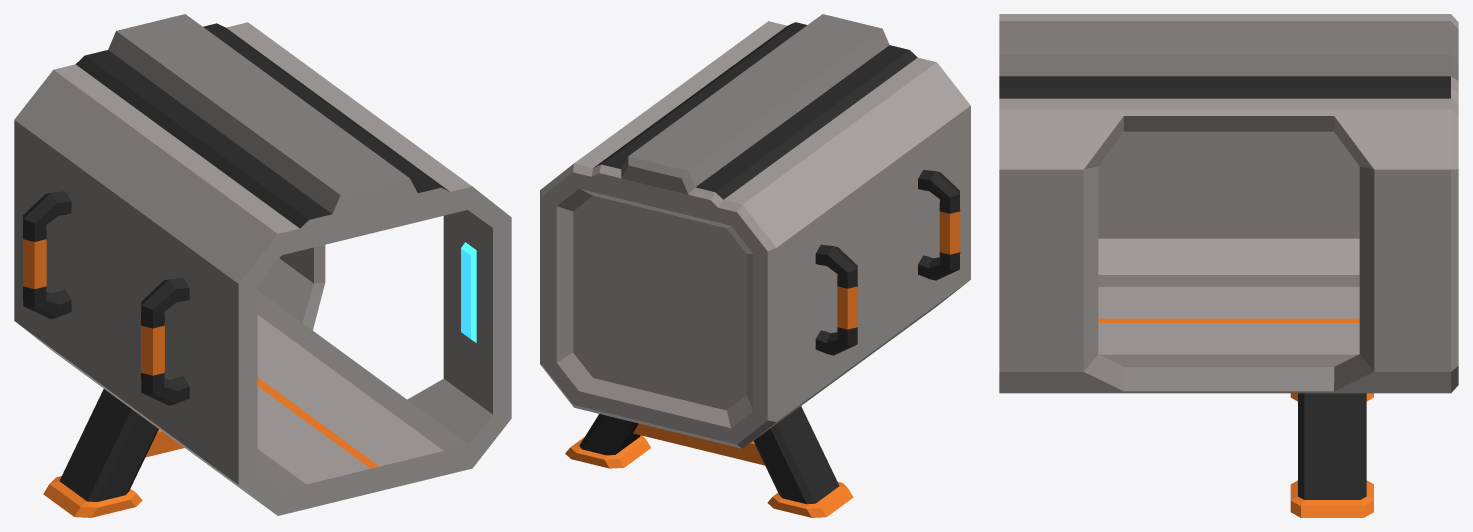
File: scifi_scifi-planet-base-hall-one-end.fbx
3 views of the same model, side by side, from view 1: azimuth 30°, elevation 25°; view 2: azimuth 150°, elevation 25°; view 3: azimuth 270°, elevation 25° (orthographic). The views are drawn at different scales.
Visible parts, largest first — view 1: scifi_scifi_planet_base_hall_one_end; view 2: scifi_scifi_planet_base_hall_one_end; view 3: scifi_scifi_planet_base_hall_one_end.
Part boxes in pixels (left/top/right/bottom): scifi_scifi_planet_base_hall_one_end: left=14, top=14, right=511, bottom=517; scifi_scifi_planet_base_hall_one_end: left=540, top=14, right=970, bottom=517; scifi_scifi_planet_base_hall_one_end: left=999, top=14, right=1458, bottom=517.
Bounding box in the file's own units: 167 × 195 × 200.
